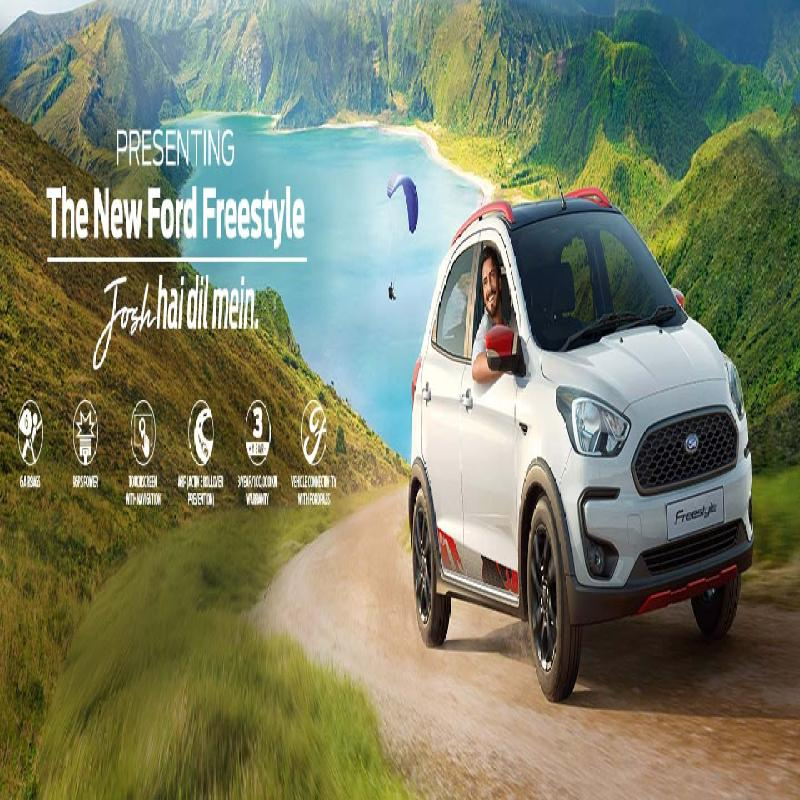car: (400, 204, 756, 644)
